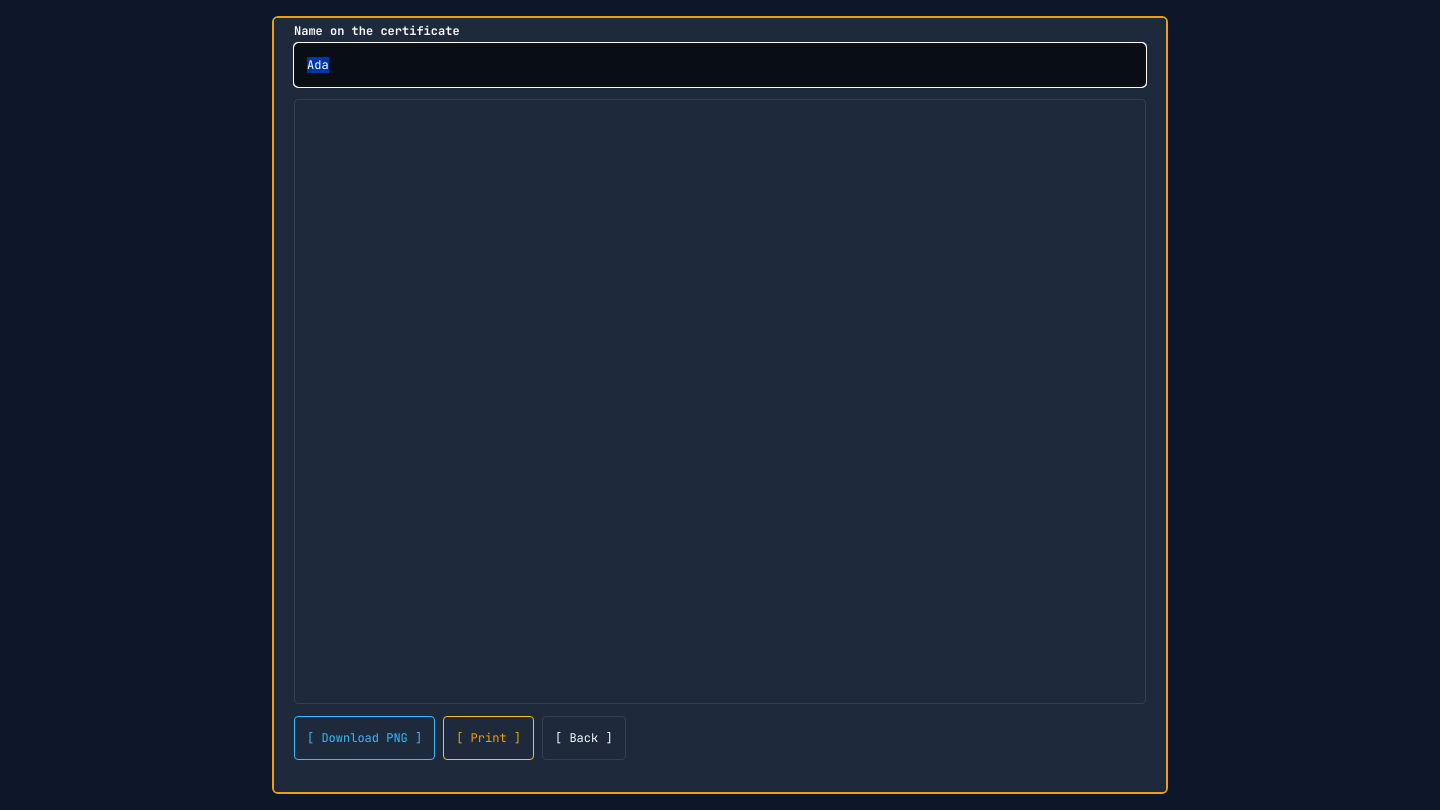
Test: Certificate › [ Print ] writes the certificate page into a new window and prints it; a blocked window is explained
The width and height of the screenshot is (1440, 810).
(page scrolled)
Click the button "[ Print ]": (489, 738) [443,716,534,760]
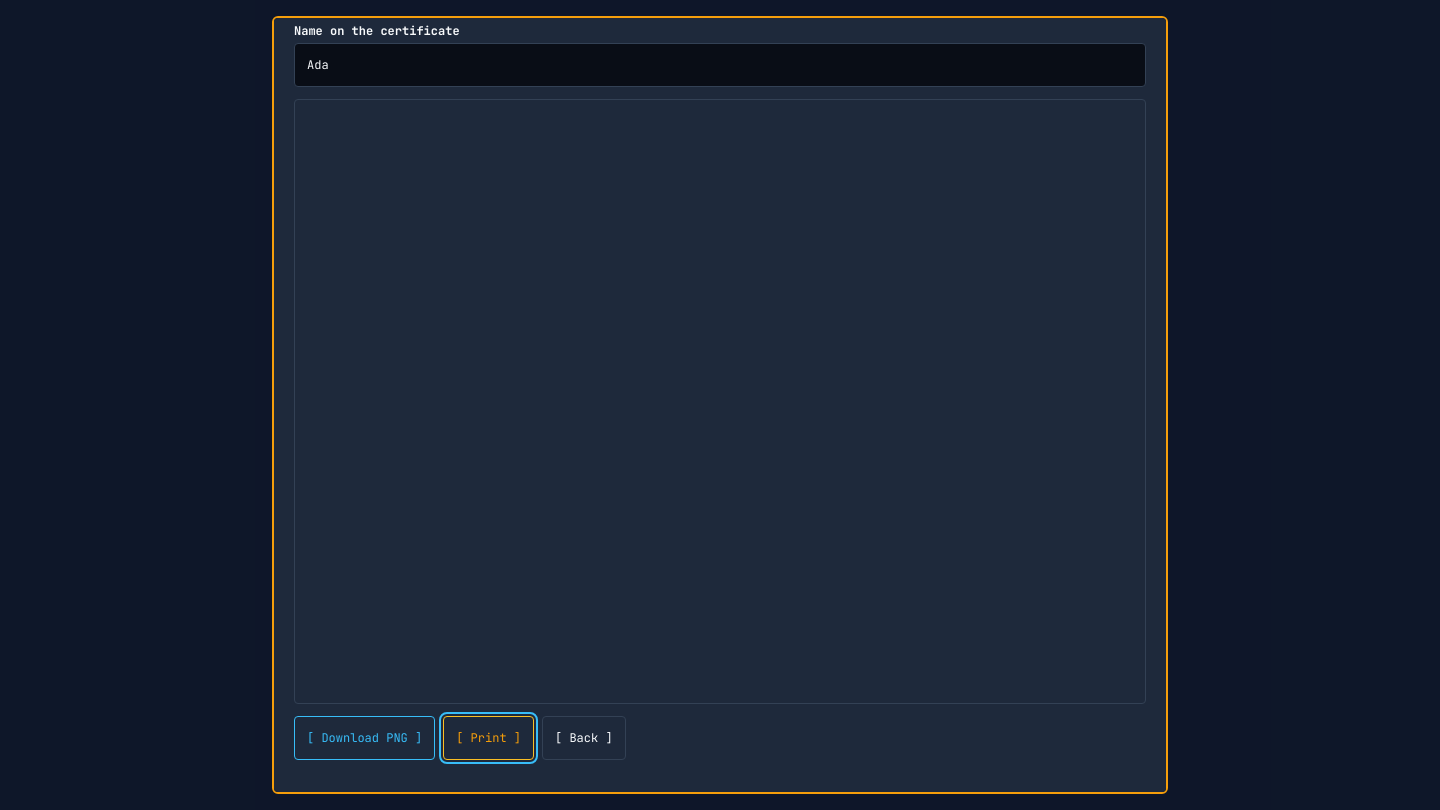
Click the button "[ Print ]": (489, 738) [443,716,534,760]
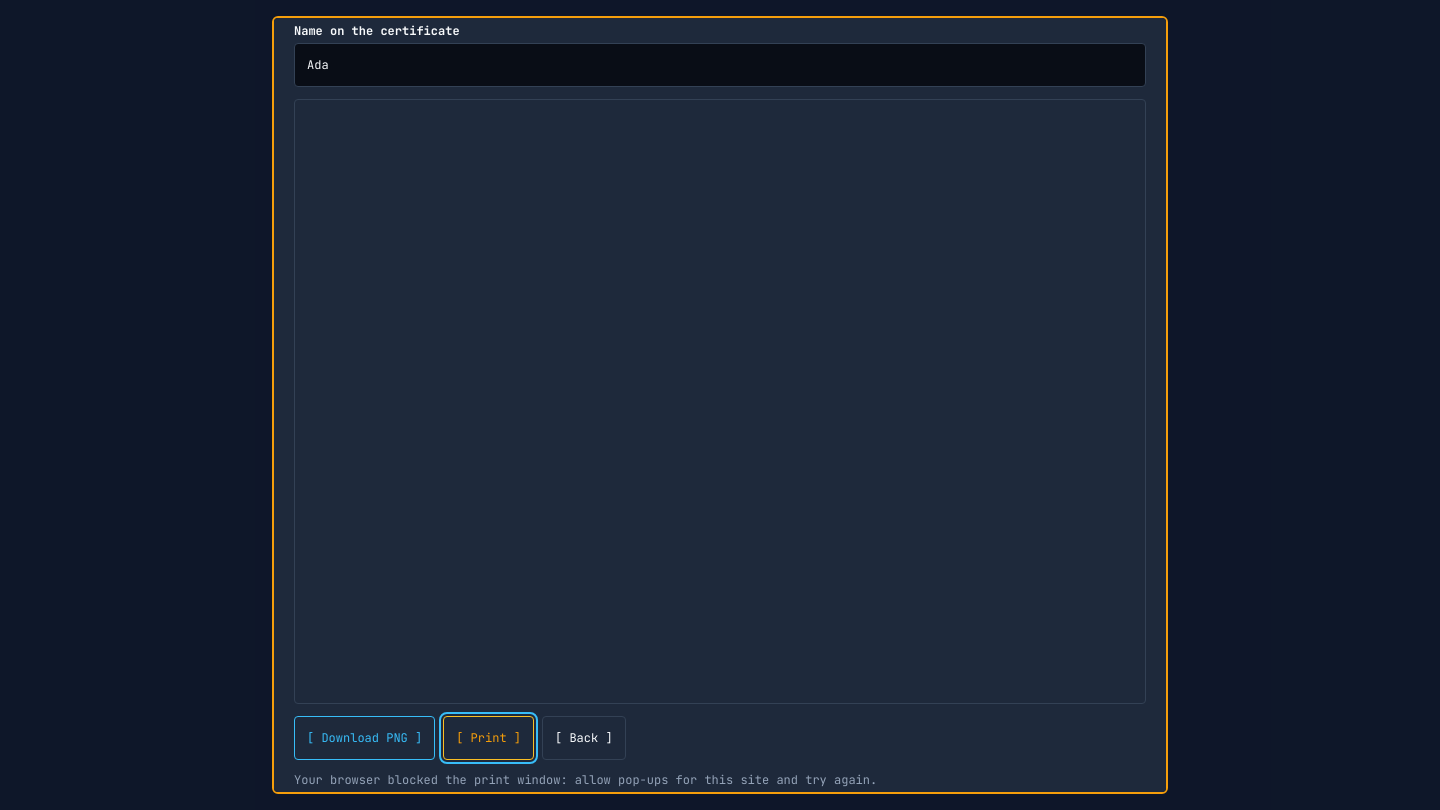
Expected: the message shows "blocked", [294,772,877,788]
